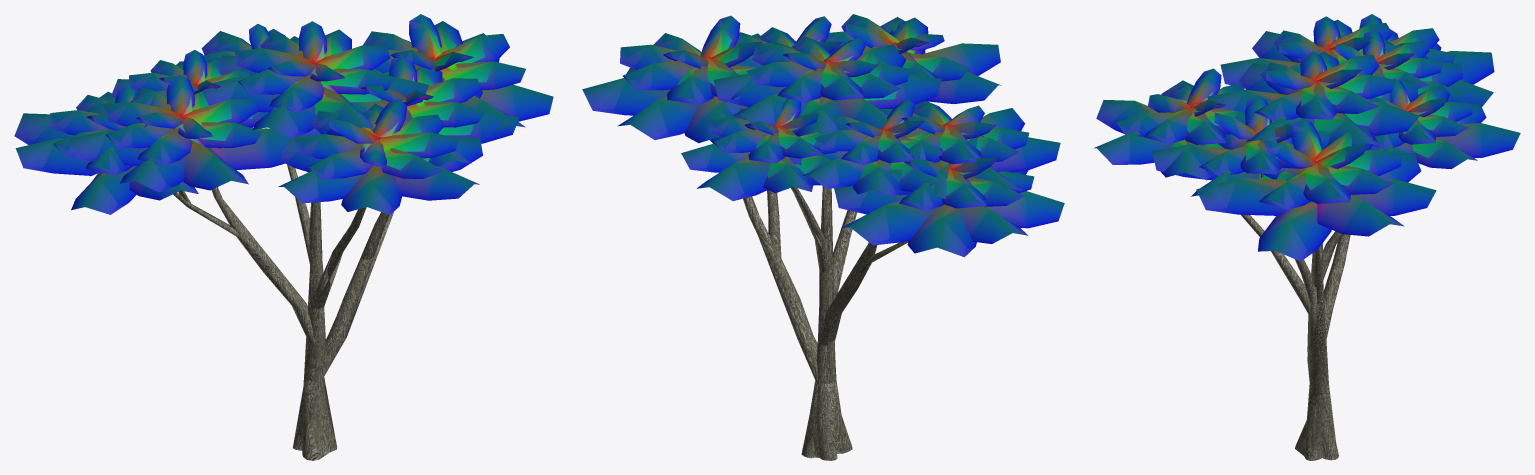
The model's file is umbrellaAcaciaFul_01.dae.
The picture shows the model from 3 angles, left to right: view 1: azimuth 30°, elevation 25°; view 2: azimuth 150°, elevation 25°; view 3: azimuth 270°, elevation 25°; orthographic projection. The views are drawn at different scales.
Visible parts, largest first — view 1: umbrellaAcaciaFull256, umbrellaAcaciaFull128; view 2: umbrellaAcaciaFull256, umbrellaAcaciaFull128; view 3: umbrellaAcaciaFull256, umbrellaAcaciaFull128.
Part boxes in pixels (<box>): umbrellaAcaciaFull256: <box>15,14,553,460</box>; umbrellaAcaciaFull128: <box>14,21,525,456</box>; umbrellaAcaciaFull256: <box>593,14,1064,460</box>; umbrellaAcaciaFull128: <box>582,17,1027,459</box>; umbrellaAcaciaFull256: <box>1094,14,1520,460</box>; umbrellaAcaciaFull128: <box>1096,25,1493,459</box>.
Size of what is drawn, in the model's own units: 14.96 by 12.46 by 12.59.
